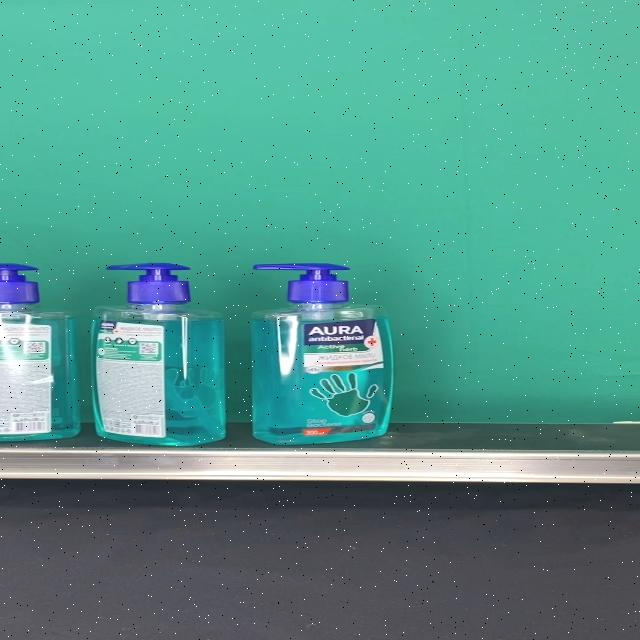Bottle: (250, 262, 394, 446), (91, 264, 226, 446)
Cap: (253, 263, 349, 305), (107, 264, 192, 306)
